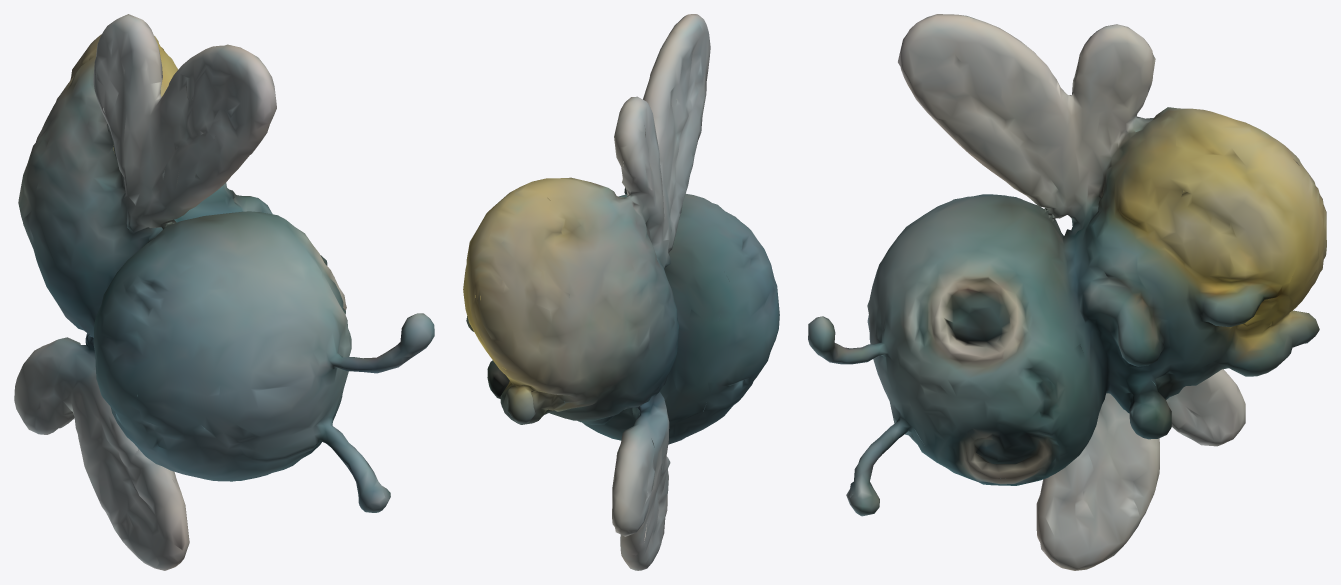
The model's file is pet_firefly.glb.
The picture shows the model from 3 angles, left to right: view 1: azimuth 30°, elevation 25°; view 2: azimuth 150°, elevation 25°; view 3: azimuth 270°, elevation 25°; orthographic projection. The views are drawn at different scales.
Parts seen in each view (by area): view 1: geometry_0; view 2: geometry_0; view 3: geometry_0.
Boxes of the visible parts, left/top/right/bottom form: geometry_0: left=14, top=14, right=434, bottom=570; geometry_0: left=463, top=14, right=779, bottom=570; geometry_0: left=808, top=14, right=1326, bottom=570.
Size of the model in its own units: 0.4944 by 1.09 by 0.9123.
